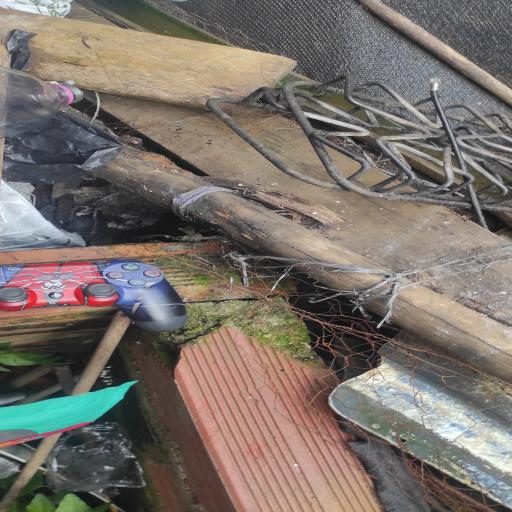ControlPlay4: (0, 260, 187, 332)
